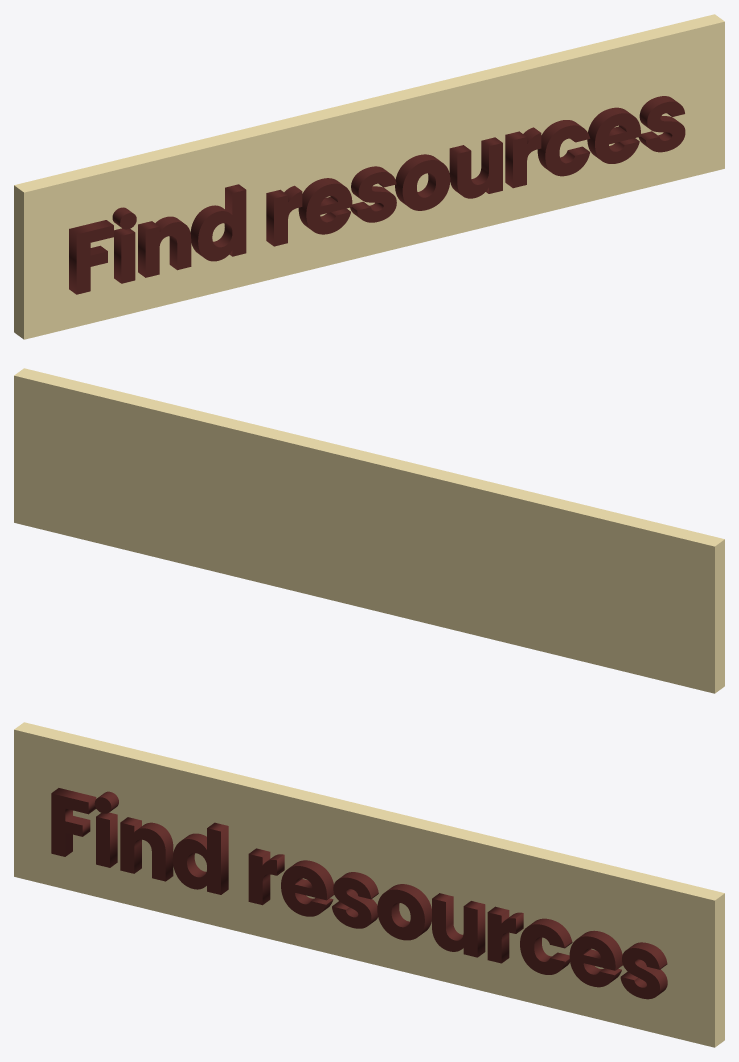
File: findButton.gltf
The picture shows the model from 3 angles, top to bottom: view 1: azimuth 30°, elevation 25°; view 2: azimuth 150°, elevation 25°; view 3: azimuth 330°, elevation 25°; orthographic projection.
Visible parts, largest first — view 1: findButton, Text.002; view 2: findButton; view 3: findButton, Text.002.
Part boxes in pixels (<box>): findButton: <box>14,14,724,339</box>; Text.002: <box>69,96,685,294</box>; findButton: <box>14,368,724,693</box>; findButton: <box>14,722,724,1047</box>; Text.002: <box>51,788,667,999</box>.
Bounding box in the file's own units: 4.98 × 1 × 0.2186.
